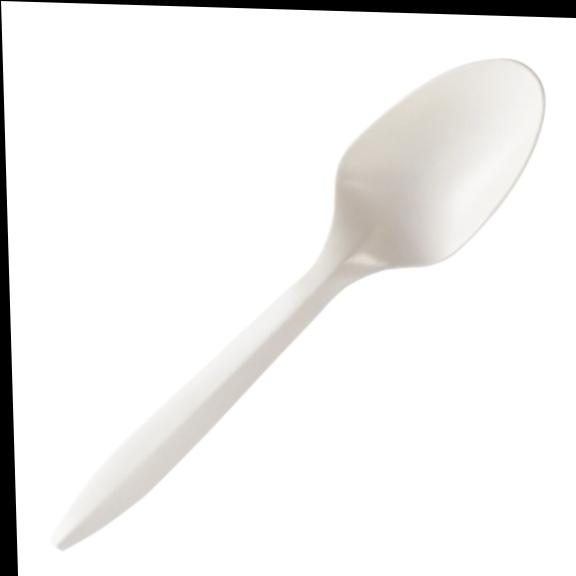Plastik: (53, 59, 543, 548)
